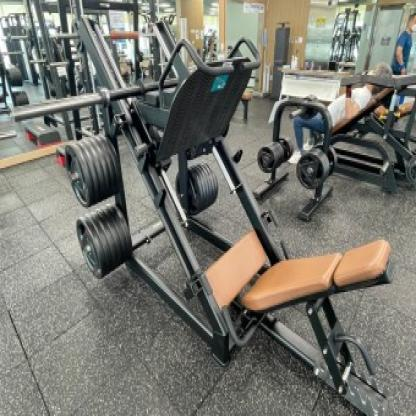leg press: (44, 8, 408, 416)
